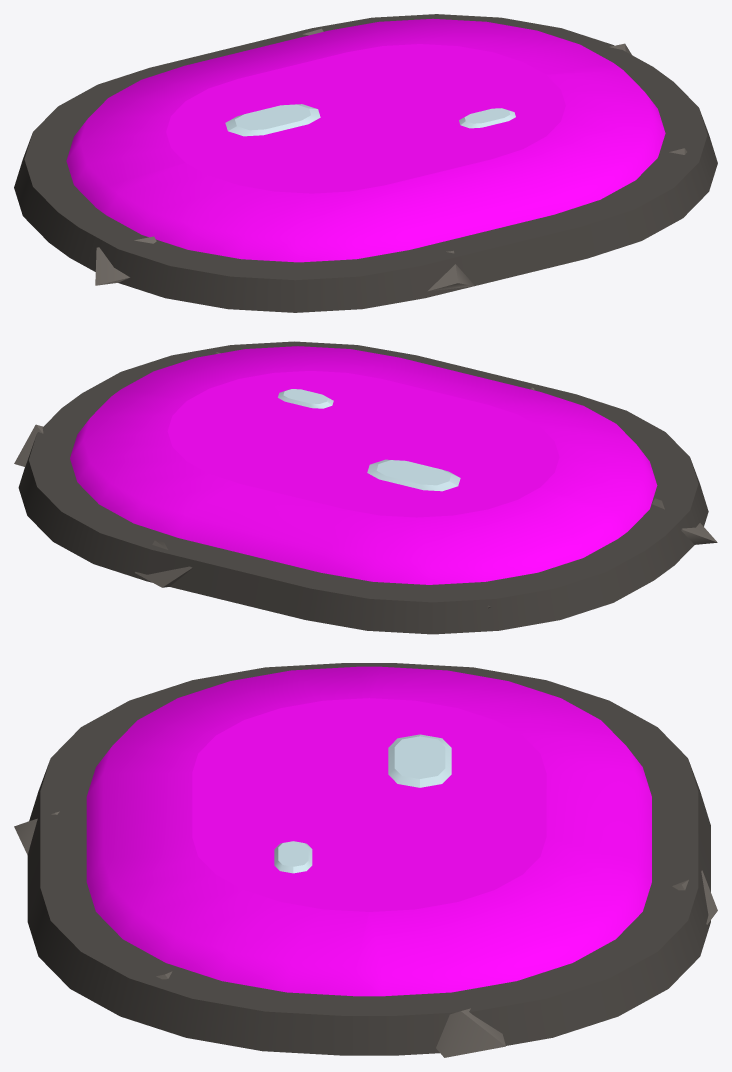
File: objet_eau.glb
3 views of the same model, one above another, from view 1: azimuth 30°, elevation 25°; view 2: azimuth 150°, elevation 25°; view 3: azimuth 270°, elevation 25° (orthographic). The views are drawn at different scales.
Visible parts, largest first — view 1: eau_teinte.002, eau_pierre_sombre.002, eau_verre_clair.002, eau_pierre.002; view 2: eau_teinte.002, eau_pierre_sombre.002, eau_verre_clair.002, eau_pierre.002; view 3: eau_teinte.002, eau_pierre_sombre.002, eau_verre_clair.002, eau_pierre.002.
Part boxes in pixels (left/top/right/bottom): eau_teinte.002: left=66, top=18, right=665, bottom=262; eau_pierre_sombre.002: left=14, top=14, right=717, bottom=312; eau_verre_clair.002: left=225, top=104, right=515, bottom=136; eau_pierre.002: left=95, top=28, right=686, bottom=291; eau_teinte.002: left=70, top=346, right=657, bottom=584; eau_pierre_sombre.002: left=18, top=341, right=708, bottom=634; eau_verre_clair.002: left=278, top=389, right=460, bottom=491; eau_pierre.002: left=14, top=352, right=717, bottom=608; eau_teinte.002: left=86, top=666, right=651, bottom=996; eau_pierre_sombre.002: left=27, top=663, right=710, bottom=1055; eau_verre_clair.002: left=274, top=734, right=451, bottom=873; eau_pierre.002: left=14, top=811, right=717, bottom=1057.
Bounding box in the file's own units: 0.3473 × 0.032 × 0.2782.
